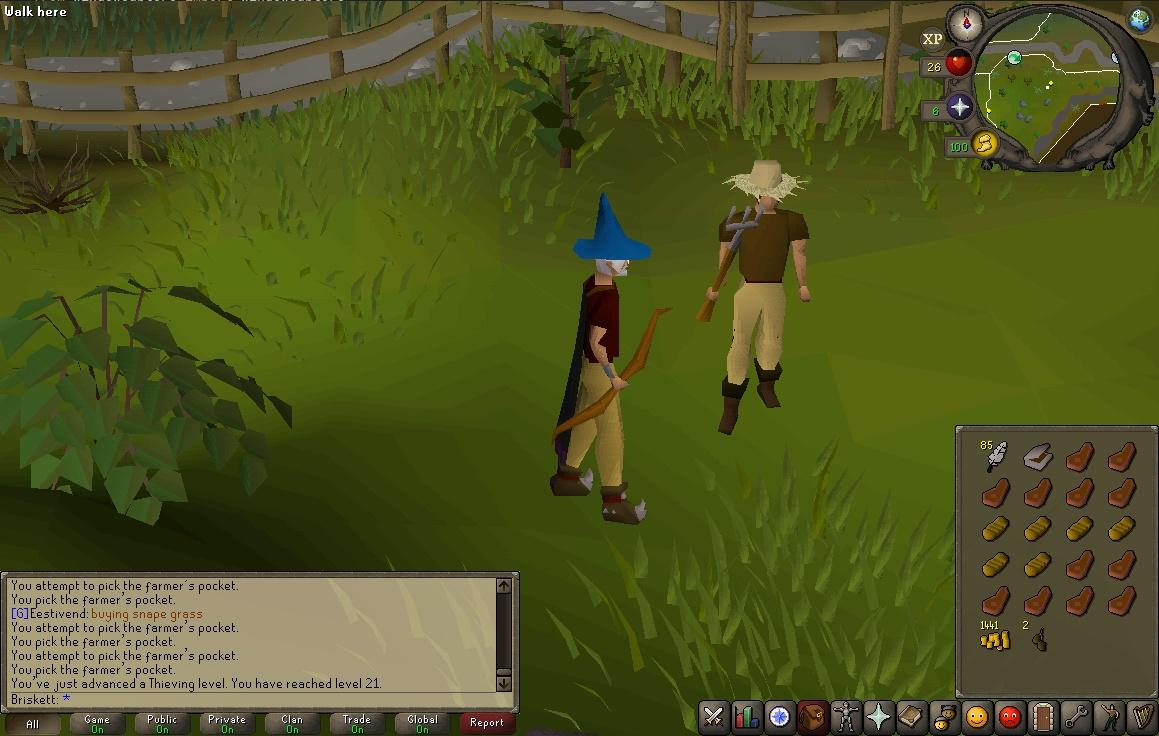Farmer: (704, 159, 813, 436)
